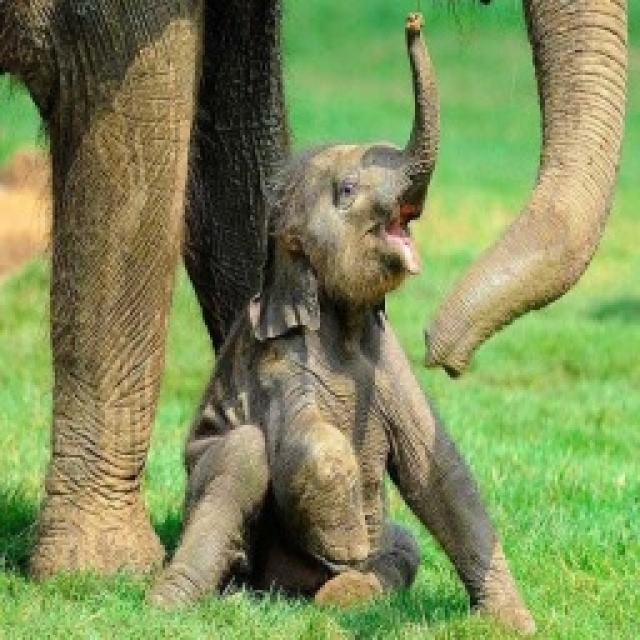not_pig: (140, 7, 540, 635)
